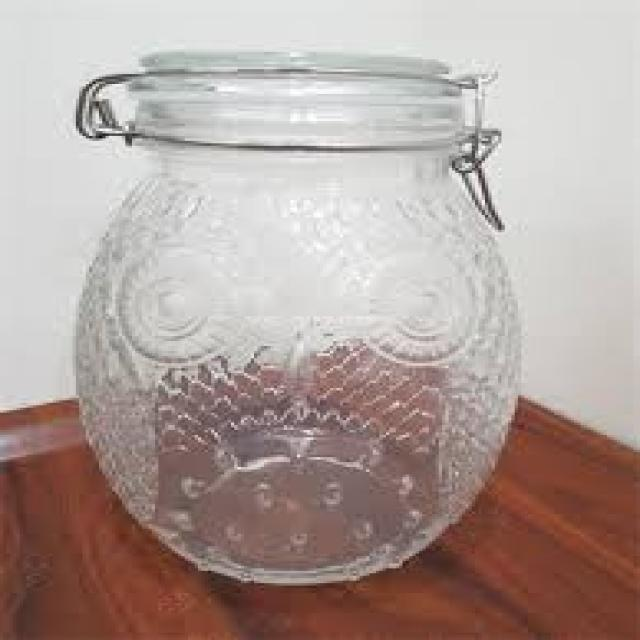glass: (69, 52, 515, 583)
